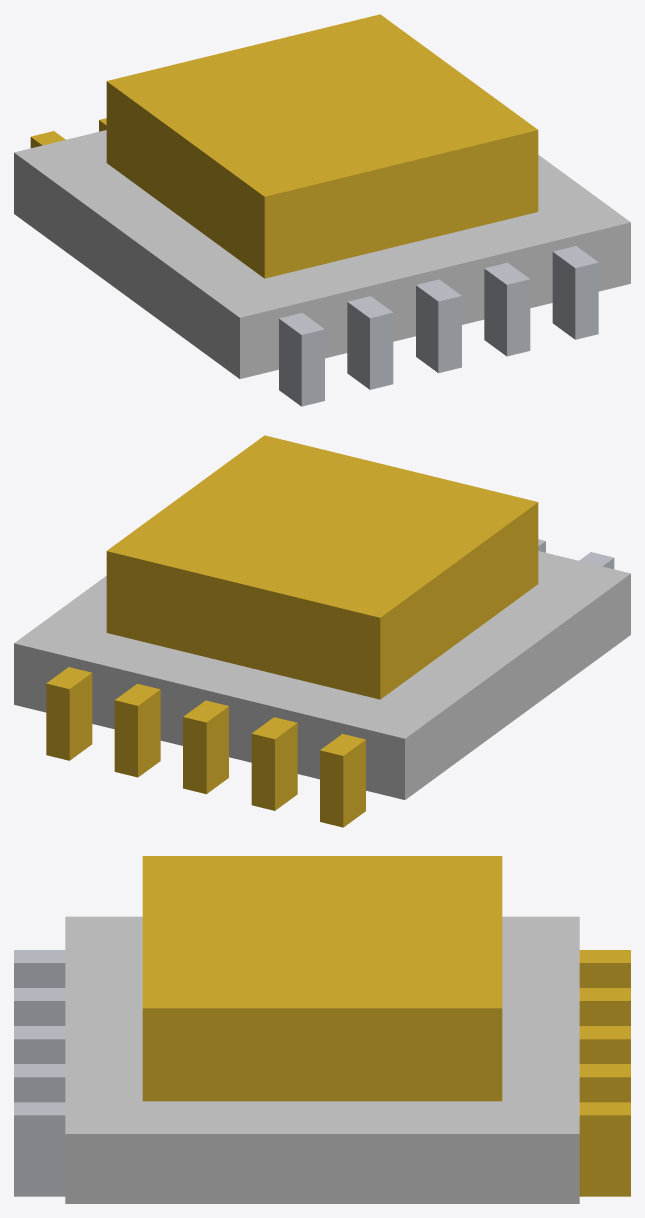
The model's file is accuracy_perk.obj.
3 renders of one model, top to bottom at view 1: azimuth 30°, elevation 25°; view 2: azimuth 150°, elevation 25°; view 3: azimuth 270°, elevation 25°, orthographic. The views are drawn at different scales.
Parts seen in each view (by area): view 1: accuracy_perk; view 2: accuracy_perk; view 3: accuracy_perk.
Boxes of the visible parts, x1,y1,x2,y2 form: accuracy_perk: [14, 14, 630, 406]; accuracy_perk: [14, 435, 630, 827]; accuracy_perk: [14, 856, 630, 1203].
Size of the model in its own units: 0.2 by 0.08 by 0.24.
